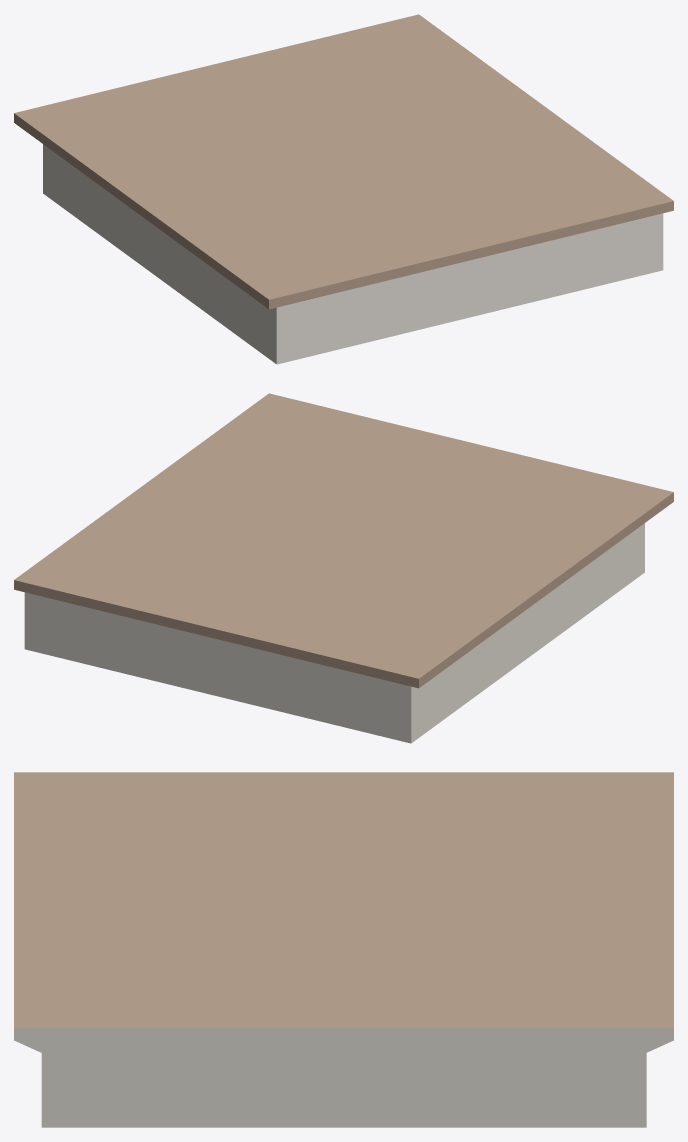
Rendered from Structure_Balcony_3_Edges.fbx.
The picture shows the model from 3 angles, top to bottom: view 1: azimuth 30°, elevation 25°; view 2: azimuth 150°, elevation 25°; view 3: azimuth 270°, elevation 25°; orthographic projection. The views are drawn at different scales.
Visible parts, largest first — view 1: object1.058; view 2: object1.058; view 3: object1.058.
Part boxes in pixels (bbox=[...]): object1.058: bbox=[14, 14, 673, 364]; object1.058: bbox=[14, 393, 673, 743]; object1.058: bbox=[14, 772, 673, 1127].
Bounding box in the file's own units: 110 × 20 × 120.
